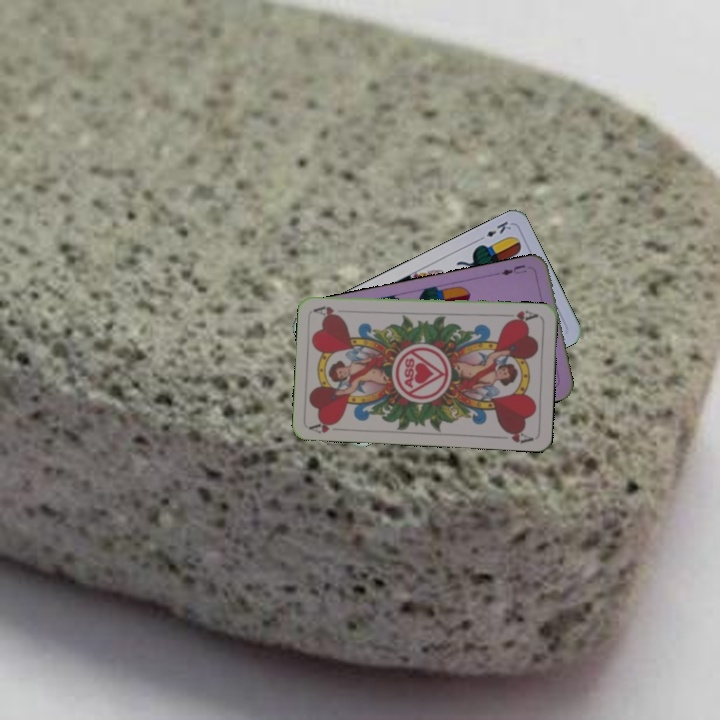EK: (474, 217, 514, 244)
EU: (497, 261, 529, 278)
HA: (501, 306, 541, 325), (307, 416, 341, 436)
